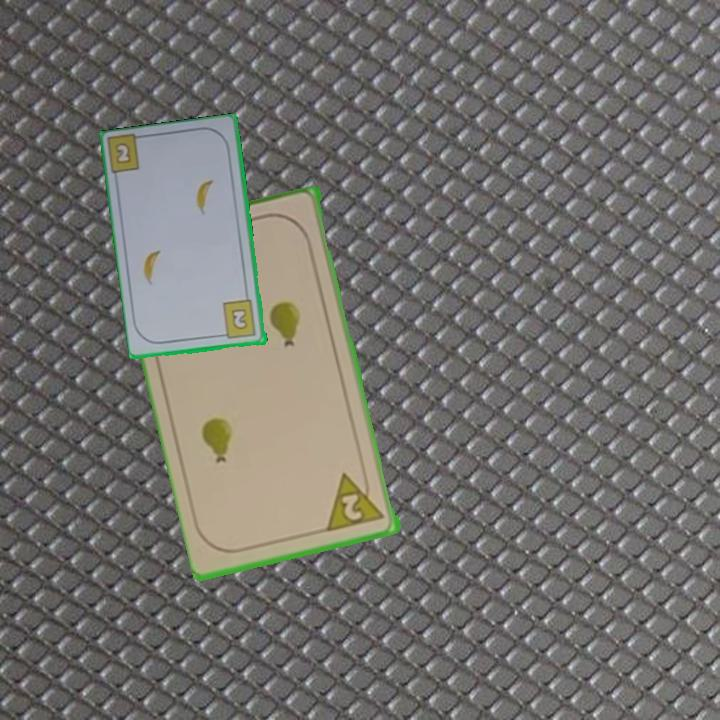2b: (217, 297, 259, 342), (111, 139, 134, 167)
2p: (325, 466, 388, 535)
